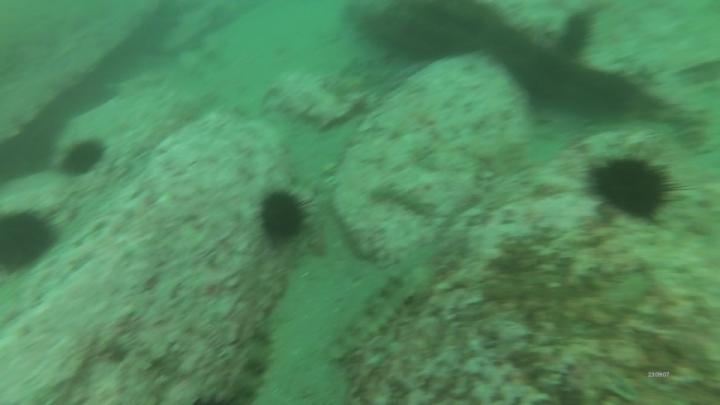echinus: (588, 149, 673, 225), (1, 204, 61, 274), (260, 187, 310, 244), (59, 138, 113, 181), (559, 11, 593, 58)
holothurian: (330, 263, 430, 365), (372, 182, 434, 219)
